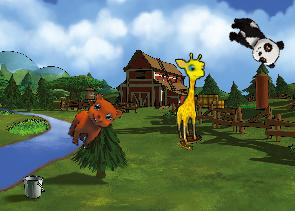bear: (63, 88, 126, 158)
giraffe: (174, 52, 208, 143)
panda: (221, 11, 288, 71)
